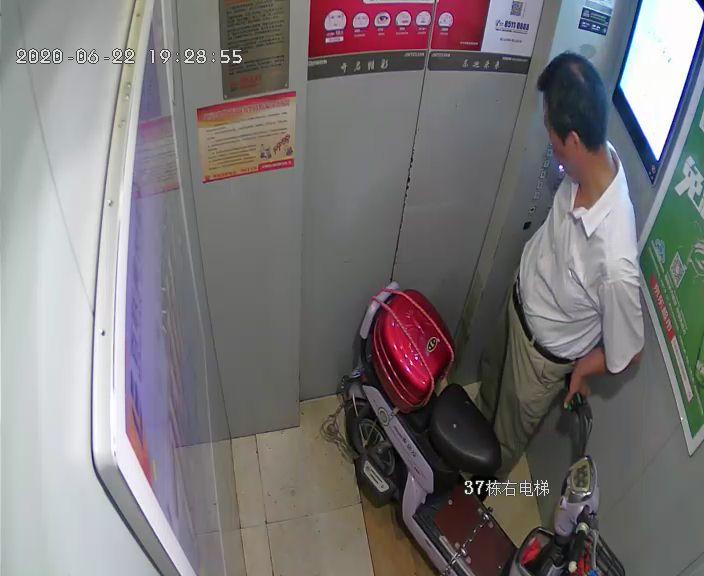Electric-bicycle: (322, 283, 621, 573)
